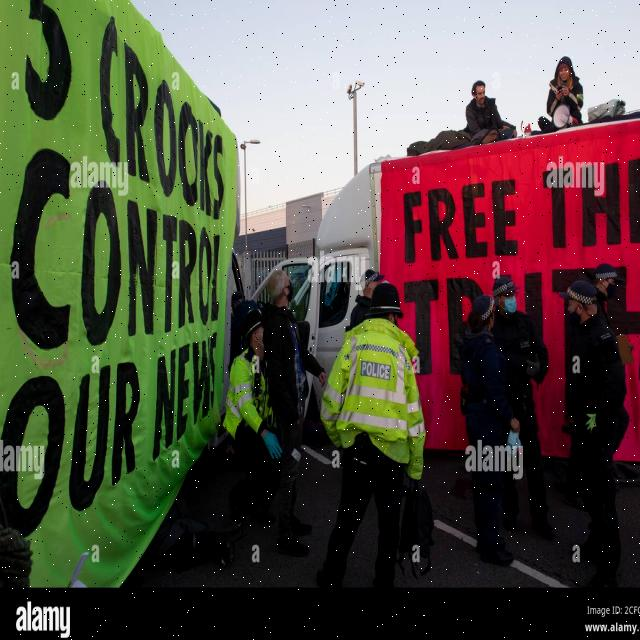police: (318, 266, 434, 596), (456, 270, 545, 589), (562, 244, 637, 591), (208, 308, 268, 542)
